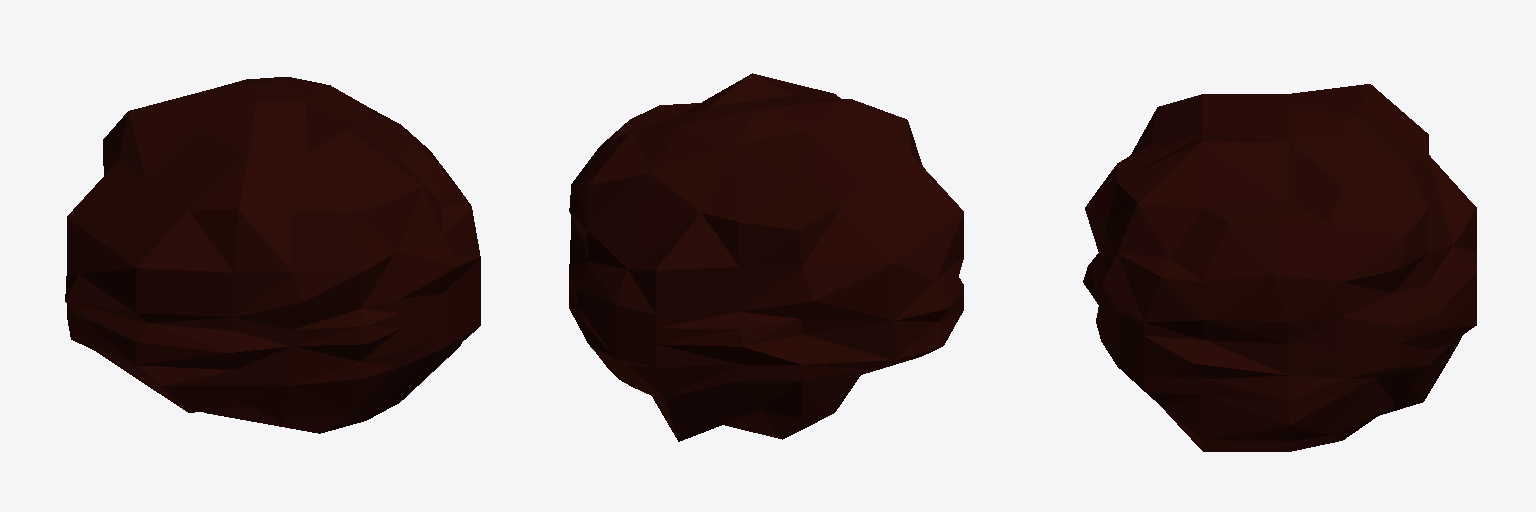
Rendered from iwa.obj.
The picture shows the model from 3 angles: view 1: azimuth 30°, elevation 25°; view 2: azimuth 150°, elevation 25°; view 3: azimuth 270°, elevation 25°; orthographic projection.
Visible parts, largest first — view 1: pCube1; view 2: pCube1; view 3: pCube1.
Boxes of the visible parts, x1,y1,x2,y2 form: pCube1: [65, 77, 480, 433]; pCube1: [569, 73, 963, 441]; pCube1: [1083, 84, 1476, 451].
Size of the model in its own units: 1.25 by 0.9579 by 1.14.